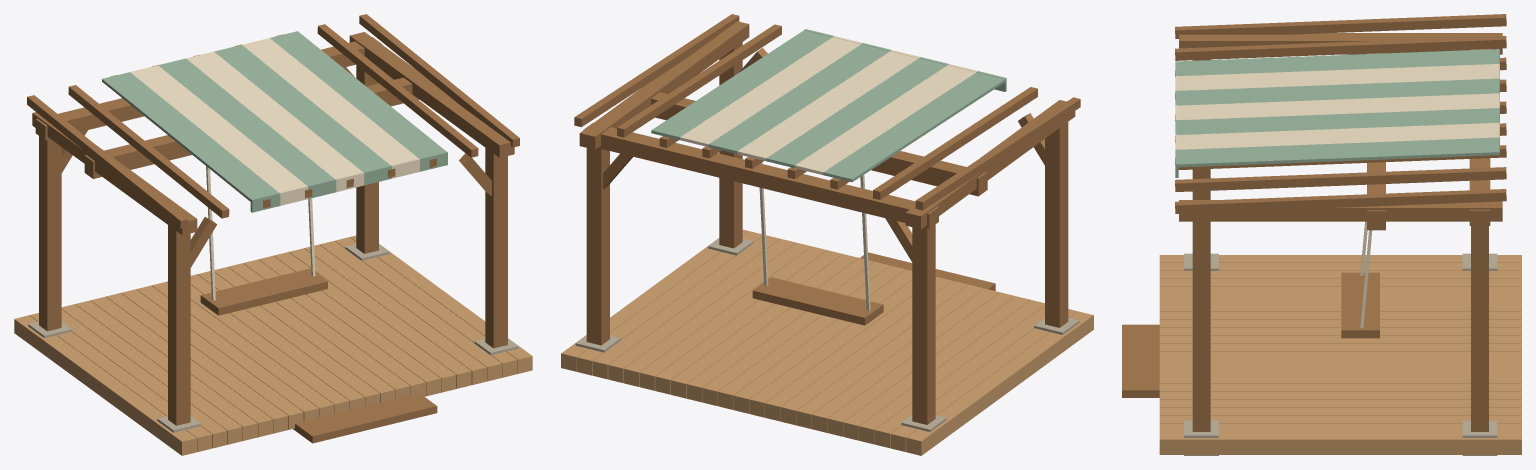
The picture shows the model from 3 angles, left to right: view 1: azimuth 30°, elevation 25°; view 2: azimuth 150°, elevation 25°; view 3: azimuth 270°, elevation 25°; orthographic projection. The views are drawn at different scales.
Visible parts, largest first — view 1: Striped canopy, Deck plank, Striped canopy.003, Striped canopy.001, Striped canopy.005, Striped canopy.006, Striped canopy.002, Striped canopy.004, Timber post, Timber post.001, Timber post.002, Eave crossbar.001 (+34 smaller); view 2: Back lintel, Deck plank, Timber post, Timber post.001, Striped canopy, Timber post.003, Striped canopy.003, Striped canopy.004, Striped canopy.006, Striped canopy.001, Striped canopy.005, Striped canopy.002 (+33 smaller); view 3: Deck plank.022, Striped canopy.006, Striped canopy, Striped canopy.004, Striped canopy.003, Striped canopy.002, Striped canopy.005, Striped canopy.001, Eave crossbar.001, Canopy rafter.001, Canopy rafter.008, Canopy rafter.007 (+33 smaller).
Part boxes in pixels (left/top/right/bottom): Striped canopy: left=102, top=72, right=277, bottom=201; Deck plank: left=14, top=315, right=196, bottom=455; Striped canopy.003: left=186, top=51, right=362, bottom=178; Striped canopy.001: left=130, top=65, right=306, bottom=192; Striped canopy.005: left=242, top=38, right=417, bottom=164; Striped canopy.006: left=270, top=31, right=445, bottom=157; Striped canopy.002: left=158, top=58, right=333, bottom=185; Striped canopy.004: left=214, top=45, right=389, bottom=171; Timber post: left=168, top=225, right=190, bottom=425; Timber post.001: left=39, top=136, right=61, bottom=331; Timber post.002: left=485, top=148, right=507, bottom=348; Eave crossbar.001: left=349, top=32, right=514, bottom=157; Back lintel: left=583, top=122, right=938, bottom=228; Deck plank: left=906, top=311, right=1093, bottom=455; Timber post: left=1045, top=122, right=1068, bottom=327; Timber post.001: left=912, top=224, right=935, bottom=424; Striped canopy: left=823, top=72, right=1005, bottom=182; Timber post.003: left=586, top=148, right=609, bottom=345; Striped canopy.003: left=737, top=51, right=918, bottom=160; Striped canopy.004: left=708, top=44, right=889, bottom=153; Striped canopy.006: left=651, top=30, right=832, bottom=139; Striped canopy.001: left=794, top=65, right=975, bottom=174; Striped canopy.005: left=680, top=37, right=860, bottom=146; Striped canopy.002: left=766, top=58, right=947, bottom=167; Deck plank.022: left=1159, top=431, right=1521, bottom=454; Striped canopy.006: left=1178, top=137, right=1499, bottom=167; Striped canopy: left=1178, top=49, right=1499, bottom=76; Striped canopy.004: left=1178, top=108, right=1499, bottom=134; Striped canopy.003: left=1178, top=93, right=1499, bottom=120; Striped canopy.002: left=1178, top=78, right=1499, bottom=105; Striped canopy.005: left=1178, top=122, right=1499, bottom=149; Striped canopy.001: left=1178, top=64, right=1499, bottom=90; Eave crossbar.001: left=1179, top=200, right=1502, bottom=221; Canopy rafter.001: left=1175, top=36, right=1506, bottom=60; Canopy rafter.008: left=1175, top=189, right=1506, bottom=213; Canopy rafter.007: left=1175, top=167, right=1506, bottom=191.
Size of the model in its own units: 4.64 by 3.1 by 4.25.
